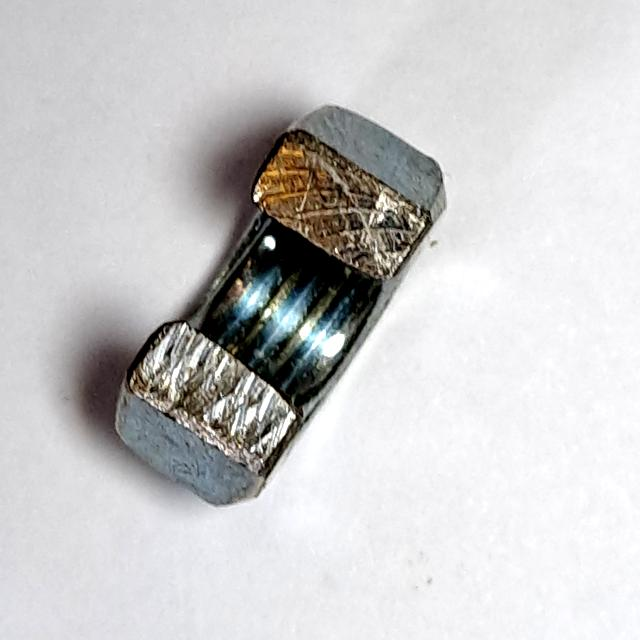Side-Fracture: (104, 96, 457, 520)
